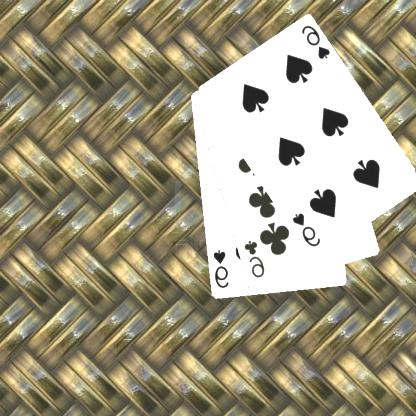6S: (300, 23, 334, 61), (291, 210, 324, 249), (212, 247, 232, 289)
9C: (243, 237, 268, 280)
